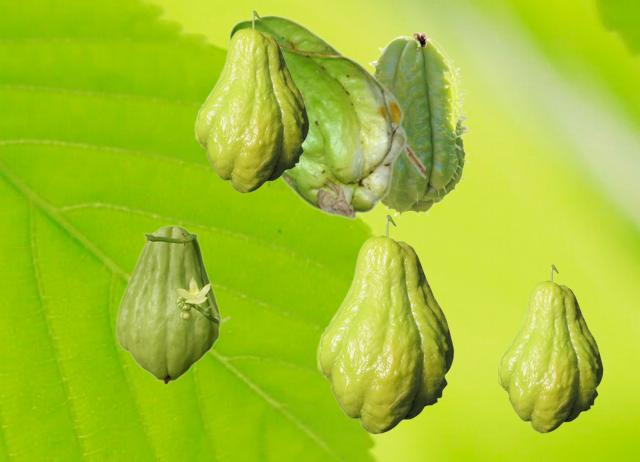sayote: (219, 14, 424, 219), (316, 214, 453, 433), (194, 10, 308, 192), (368, 31, 470, 218), (115, 225, 230, 384), (497, 264, 602, 432)
